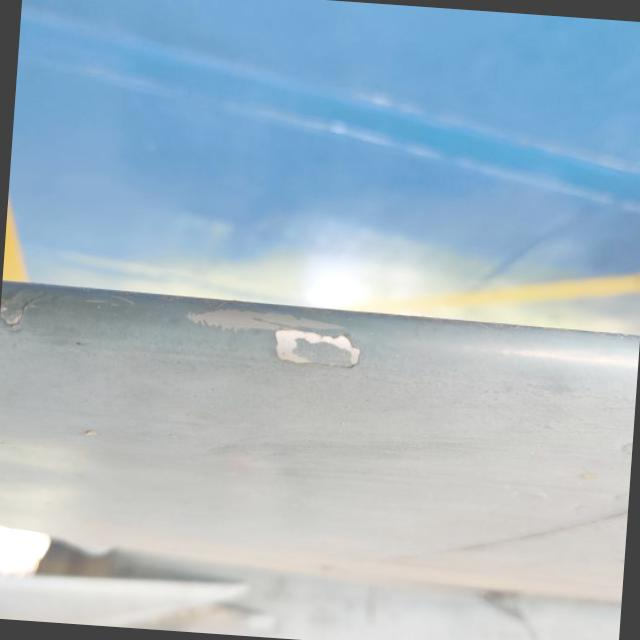paint-off: (162, 288, 378, 390), (0, 278, 53, 346)
